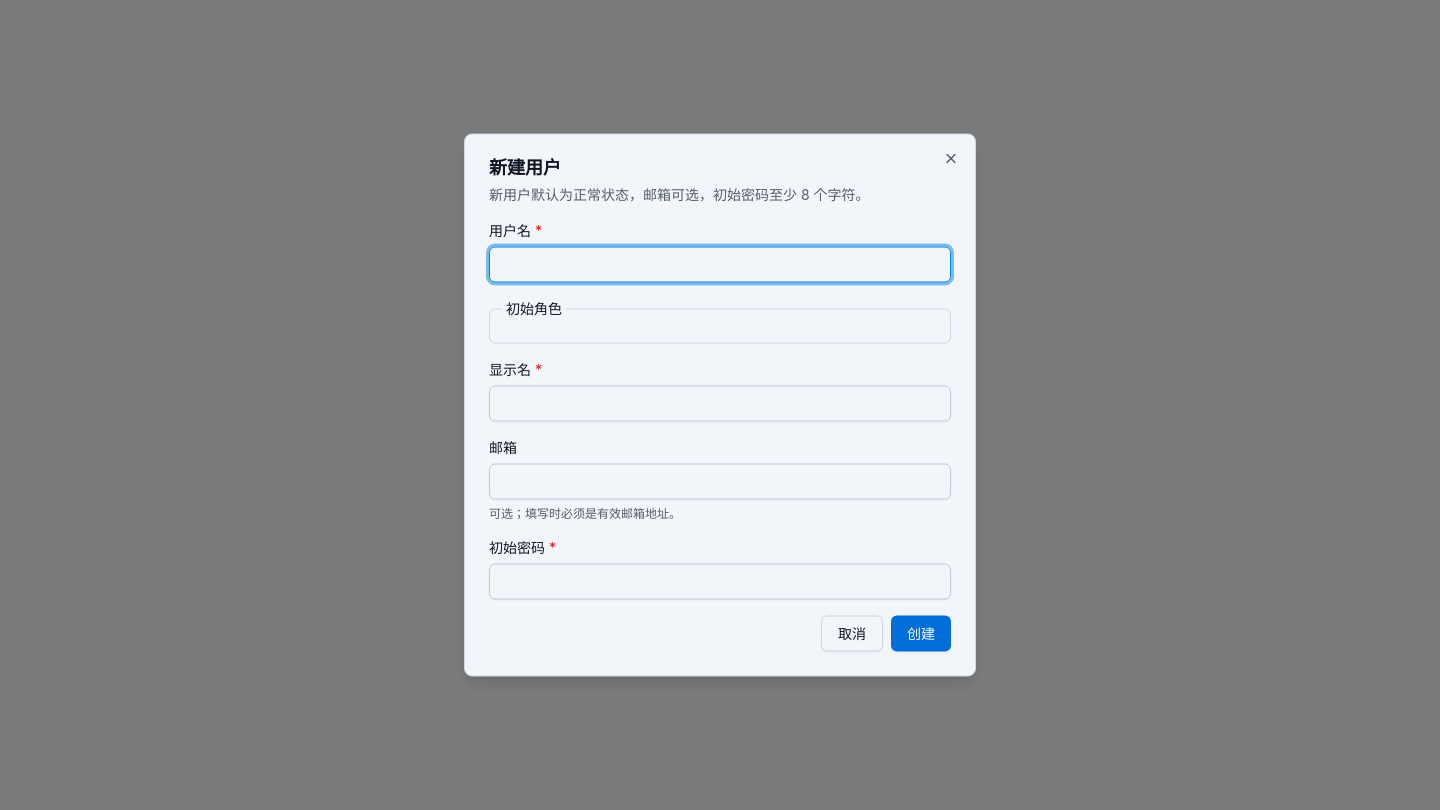
Test: PlatformUserCreateDialog › 在请求发出前展示必填校验并阻止创建
Click the button "创建".
click(921, 634)  # box [891,616,951,652]
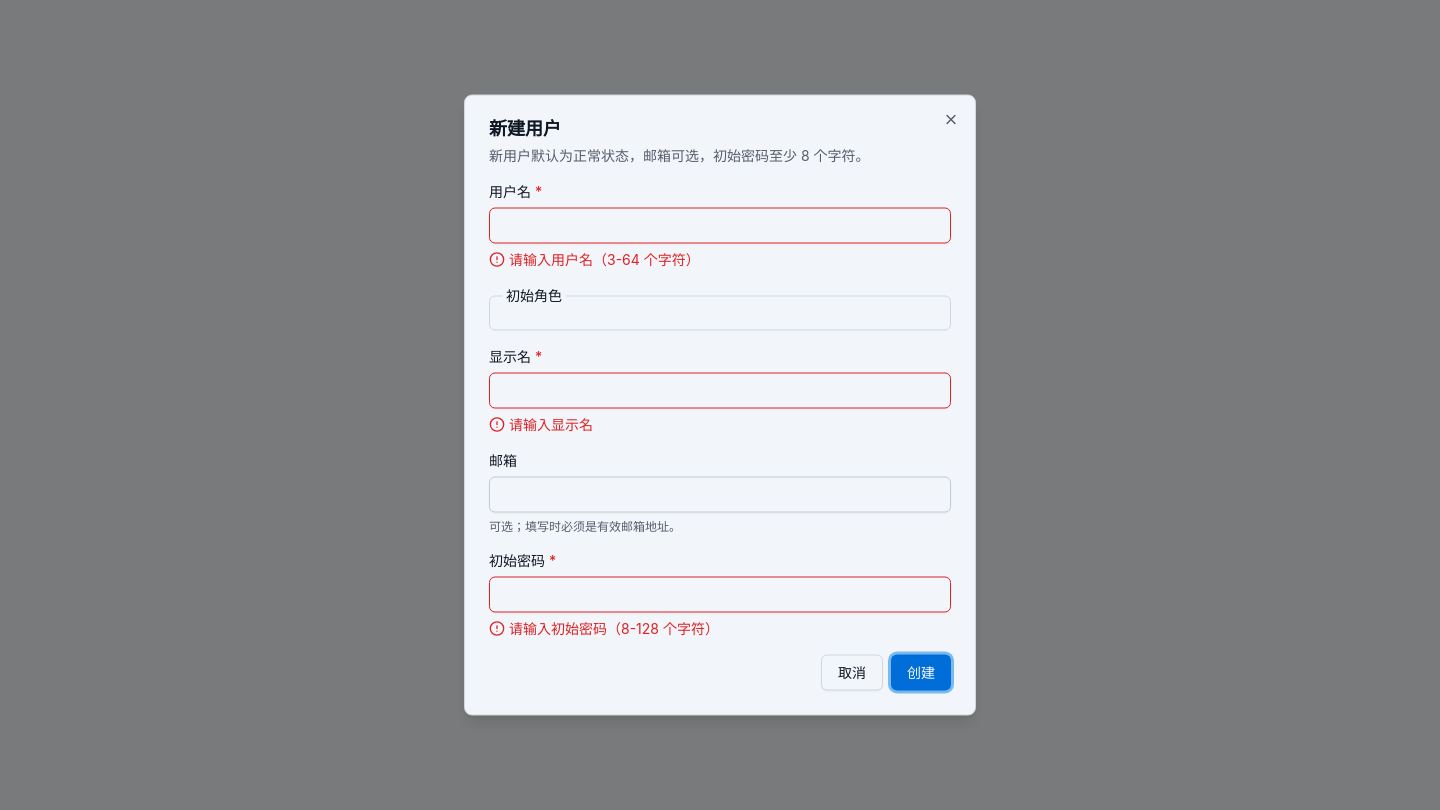
Now the text "请输入用户名（3-64 个字符）" is shown, box [489,250,700,268]
Now the text "请输入显示名" is shown, box [489,416,593,432]
Now the text "请输入初始密码（8-128 个字符）" is shown, box [489,620,719,636]
